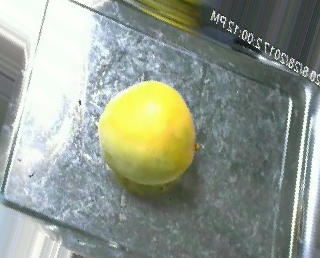Mango: (93, 77, 203, 191)
